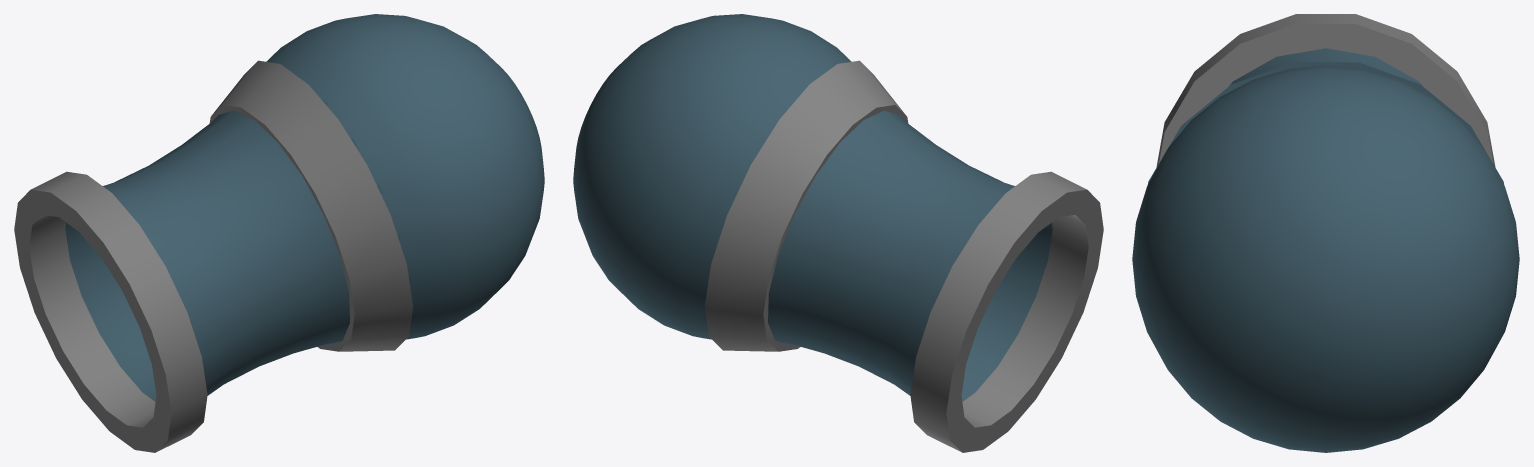
The picture shows the model from 3 angles, left to right: view 1: azimuth 30°, elevation 25°; view 2: azimuth 150°, elevation 25°; view 3: azimuth 270°, elevation 25°; orthographic projection. The views are drawn at different scales.
Parts seen in each view (by area): view 1: Sphere001; view 2: Sphere001; view 3: Sphere001.
Boxes of the visible parts, x1=… form: Sphere001: x1=14, y1=14, x2=544, y2=452; Sphere001: x1=573, y1=14, x2=1103, y2=452; Sphere001: x1=1132, y1=14, x2=1519, y2=452.
Bounding box in the file's own units: 131 × 95.3 × 81.59.
Materials: 1 (1 with a texture image).
